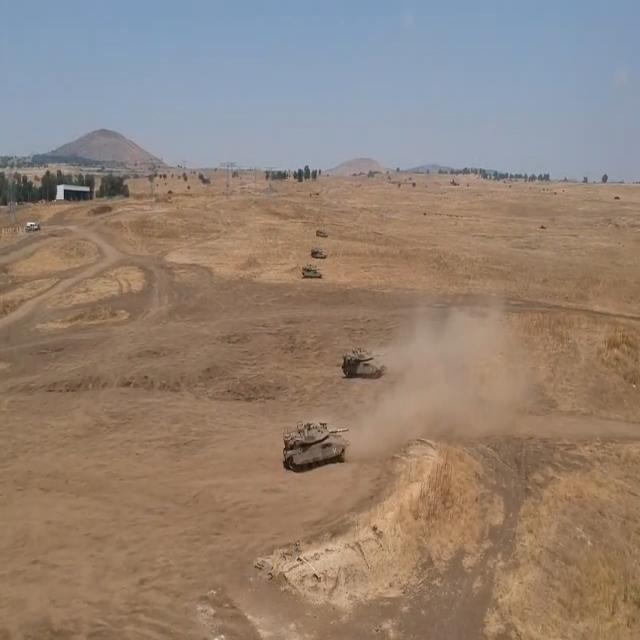tank: (278, 415, 348, 472), (347, 350, 392, 382), (297, 262, 323, 288), (310, 243, 330, 265), (314, 226, 332, 241)
